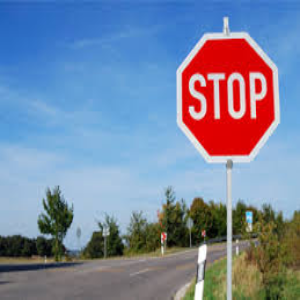STOP_SIGN: (176, 32, 279, 162)
